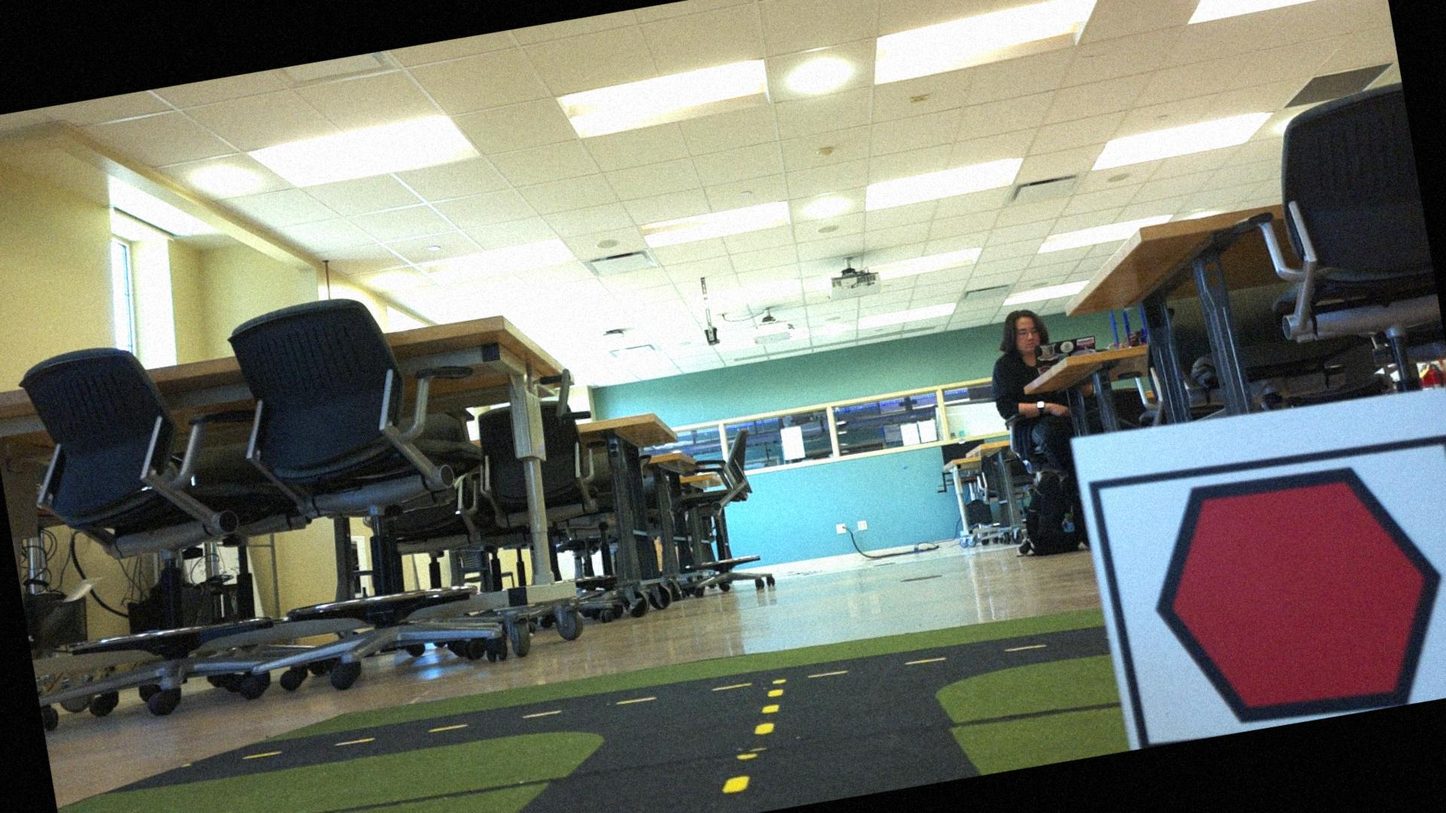stop: (1118, 443, 1445, 745)
yellowline: (708, 687, 797, 793)
